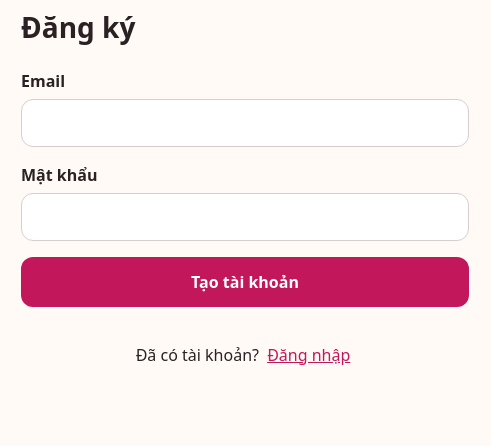
Scenario: SignUpPage shows email_taken message
Type "an@example.com" into the field labelled "Email" at [245, 123], box [21,99,469,147]
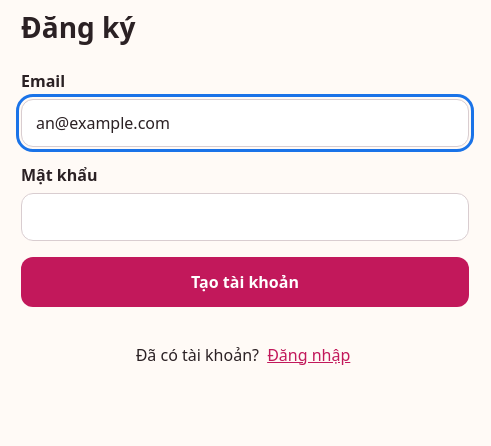
Type "mat-khau-dai" into the password field labelled "Mật khẩu" at [245, 217], box [21,193,469,241]
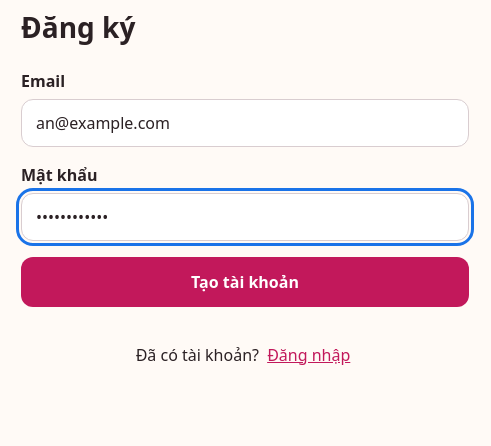
Click the button "Tạo tài khoản" at [245, 282], box [21,257,469,307]
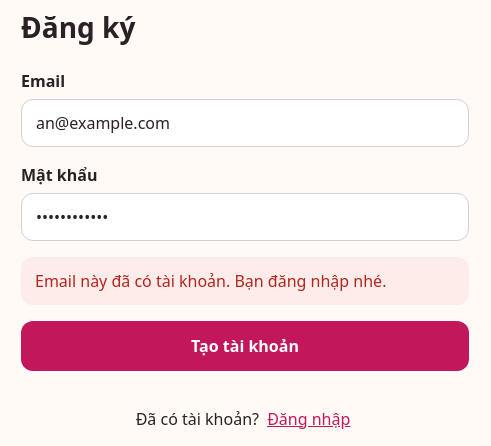
Expected: the message reads "Email này đã có tài khoản. Bạn đăng nhập nhé.", [35,270,386,292]
